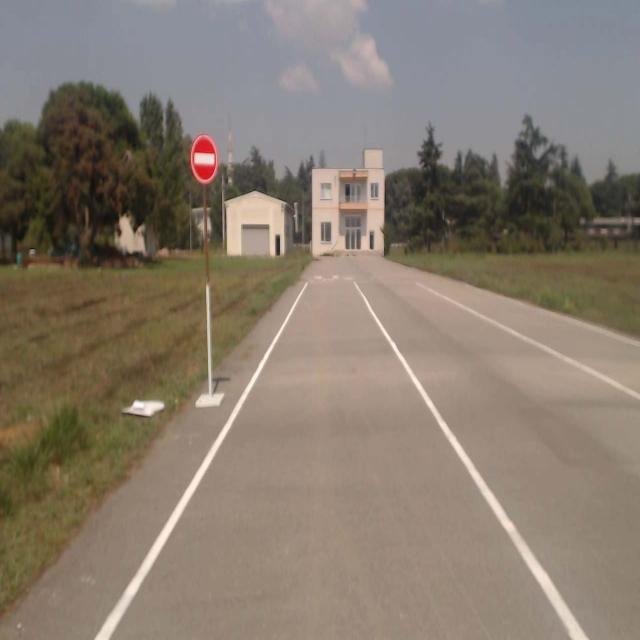girisyok: (190, 135, 218, 182)
